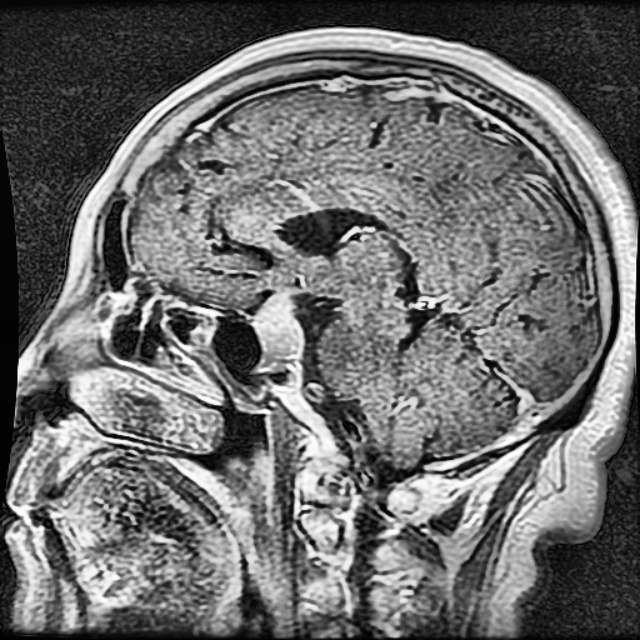Pituitary: (257, 294, 303, 355)
